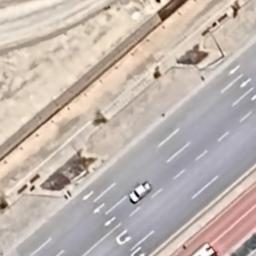pickup: (127, 180, 155, 206)
